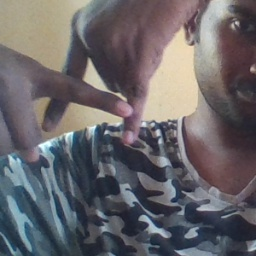H: (18, 21, 156, 147)
